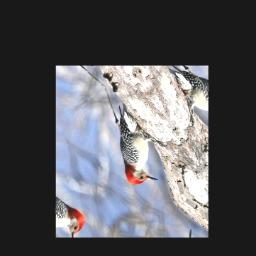Woodpecker: (87, 89, 184, 199)
